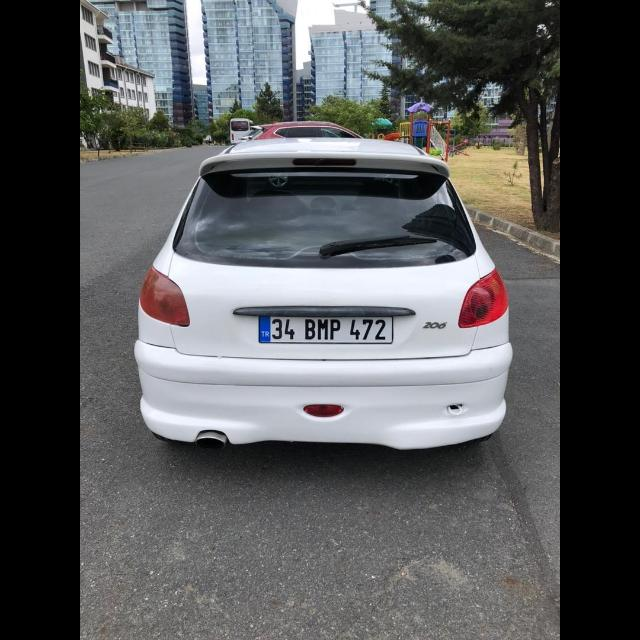Plaka: (259, 316, 393, 344)
